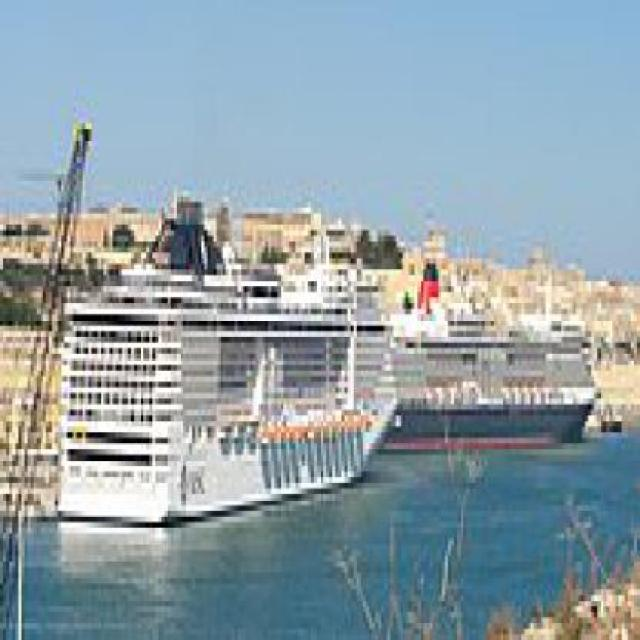cruise: (44, 203, 413, 546)
